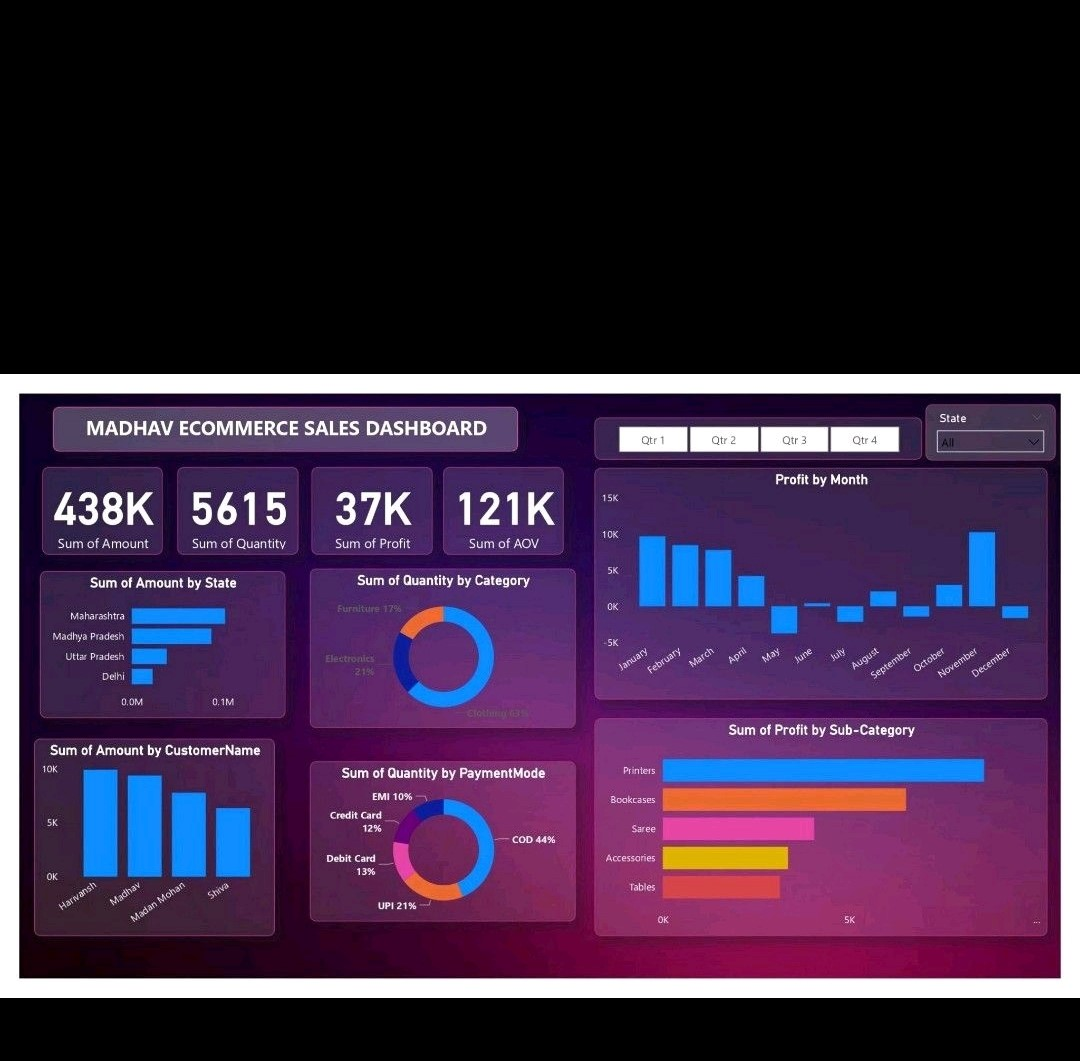

The dashboard page shown, as its layout file describes it:
{"tool":"powerbi","page":{"name":"Page 1","canvas":[1280,720],"ordinal":0},"visuals":[{"type":"textbox","title":"MADHAV ECOMMERCE SALES DASHBOARD","box":[10.1,15.1,697.1,45.4],"z":0},{"type":"columnChart","title":"Profit by Month","fields":{"Category":["Orders (1).Order Date.Variation.Date Hierarchy.Month"],"Y":["Details.Profit"]},"box":[703.8,84,556,295.6],"z":1000},{"type":"barChart","fields":{"Category":["Details.Sub-Category"],"Y":["Details.Profit"]},"box":[703.8,398.1,556,283.9],"z":2000},{"type":"donutChart","fields":{"Category":["Details.Category","Details.PaymentMode"],"Y":["Details.Quantity"]},"box":[336,262,361.2,194.9],"z":3000},{"type":"card","fields":{"Values":["Details.Amount"]},"box":[10.1,84,156.2,104.1],"z":4000},{"type":"card","fields":{"Values":["Details.Profit"]},"box":[186.5,84,149.5,95.7],"z":5000},{"type":"card","fields":{"Values":["Details.Quantity"]},"box":[342.7,79,152.9,100.8],"z":6000},{"type":"card","fields":{"Values":["Details.AOV"]},"box":[495.5,85.7,169.7,99.1],"z":7000},{"type":"barChart","fields":{"Category":["Orders (1).State"],"Y":["Details.Amount"]},"box":[10.1,216.7,312.4,193.2],"z":8000},{"type":"donutChart","fields":{"Category":["Details.PaymentMode","Details.Category","Details.PaymentMode"],"Y":["Details.Quantity"]},"box":[332.6,472,361.2,194.9],"z":9000}]}

Visuals, with their boxes in screenshot pixels (x1, y1, x2, y2):
"MADHAV ECOMMERCE SALES DASHBOARD" textbox: [left=17, top=333, right=597, bottom=371]
"Profit by Month" columnChart: [left=594, top=391, right=1057, bottom=636]
barChart - Details.Sub-Category x Details.Profit: [left=594, top=652, right=1057, bottom=888]
donutChart - Details.Category x Details.PaymentMode: [left=288, top=539, right=589, bottom=701]
card - Details.Amount: [left=17, top=391, right=147, bottom=477]
card - Details.Profit: [left=164, top=391, right=288, bottom=470]
card - Details.Quantity: [left=294, top=386, right=421, bottom=470]
card - Details.AOV: [left=421, top=392, right=562, bottom=474]
barChart - Orders (1).State x Details.Amount: [left=17, top=501, right=277, bottom=662]
donutChart - Details.PaymentMode x Details.Category: [left=285, top=713, right=586, bottom=876]
